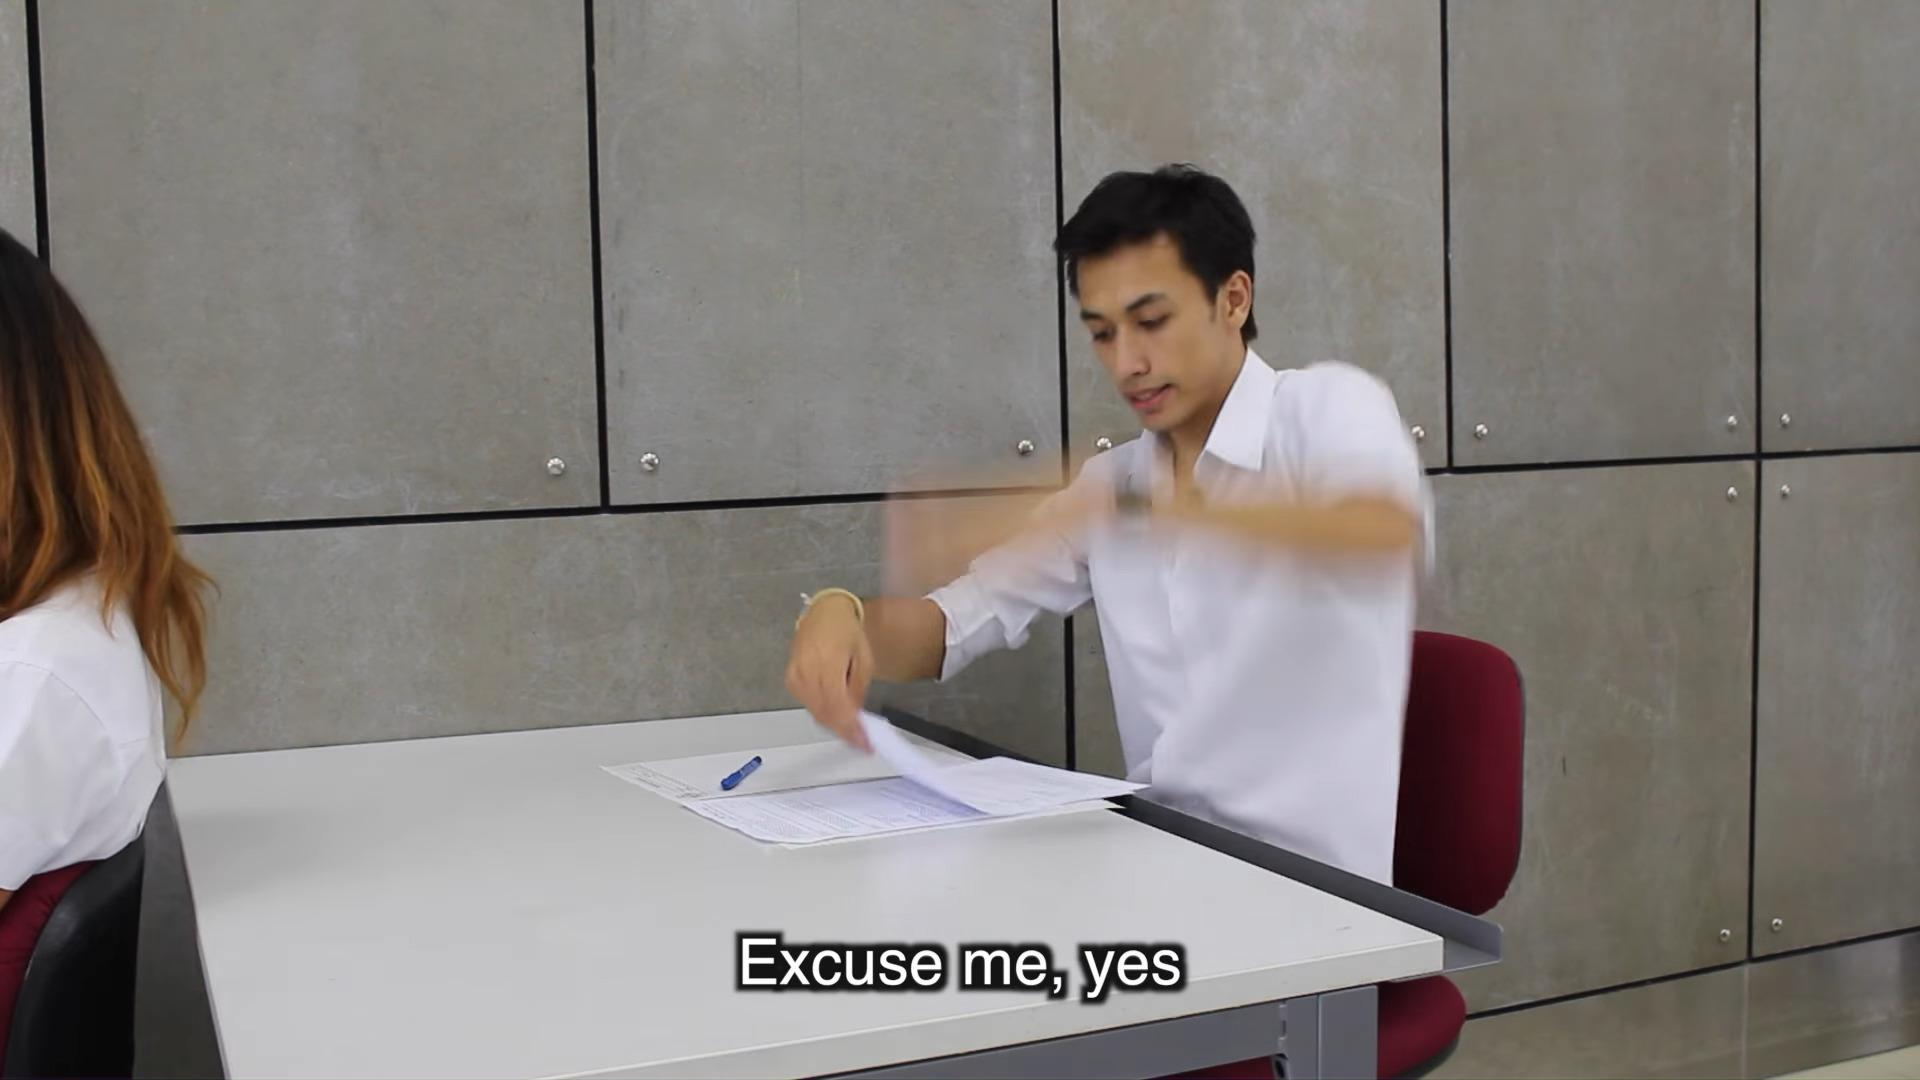good: (585, 113, 1468, 913)
